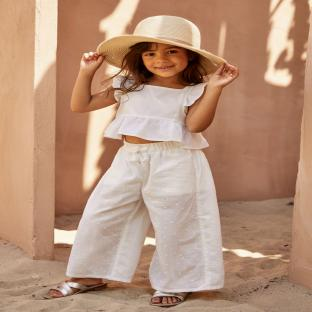Human: (46, 16, 239, 306)
